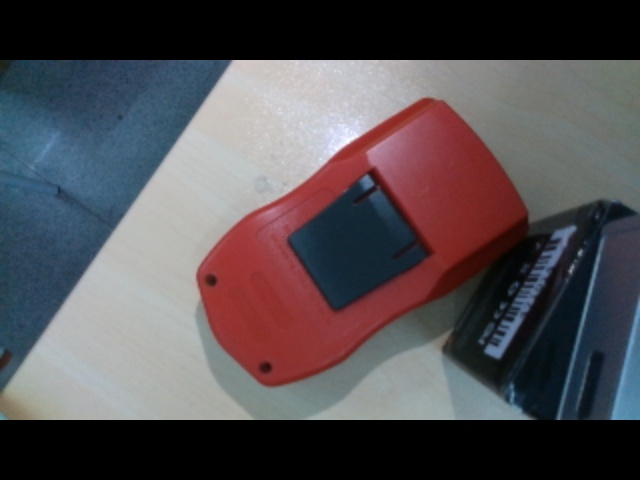Multimeter: (196, 96, 528, 387)
Screw holes: (258, 360, 274, 375), (205, 273, 220, 288)
